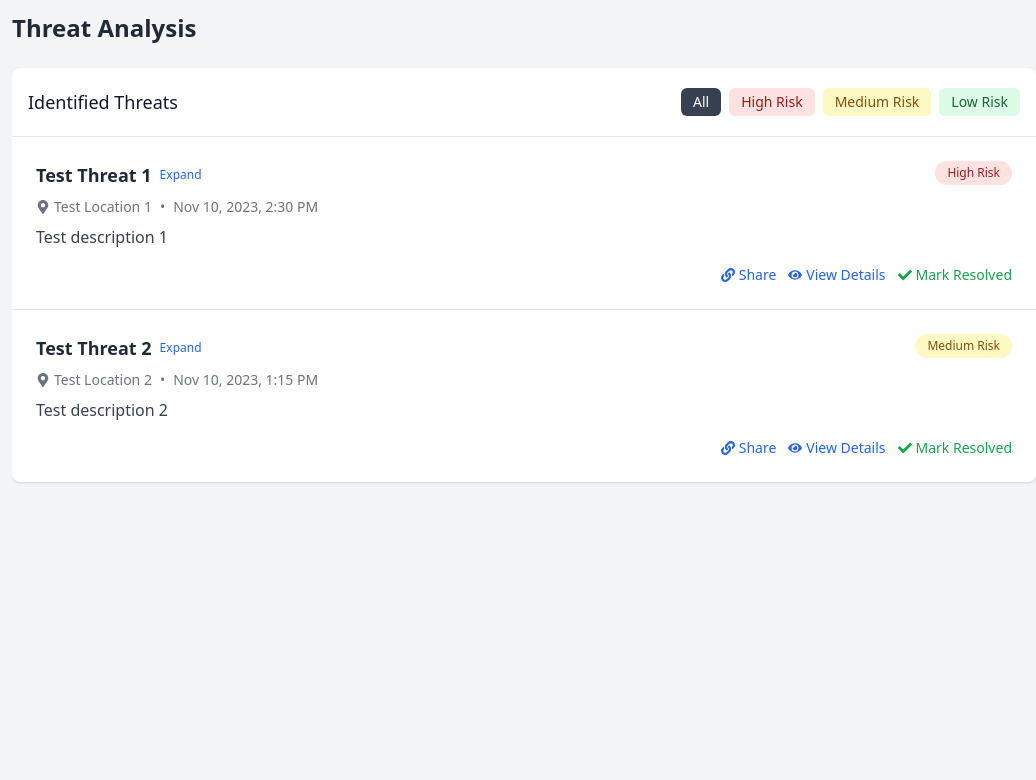
Test case: ThreatAnalysis Component › expands threat details when expand button is clicked
Expected: the heading "Test Threat 1" is shown, [36,161,152,189]
Expected: the text "Related Social Media Content" is not shown
# Click expand button
Click the button "Expand" next to "Test Threat 1".
click(181, 175)  # box [160,167,202,183]
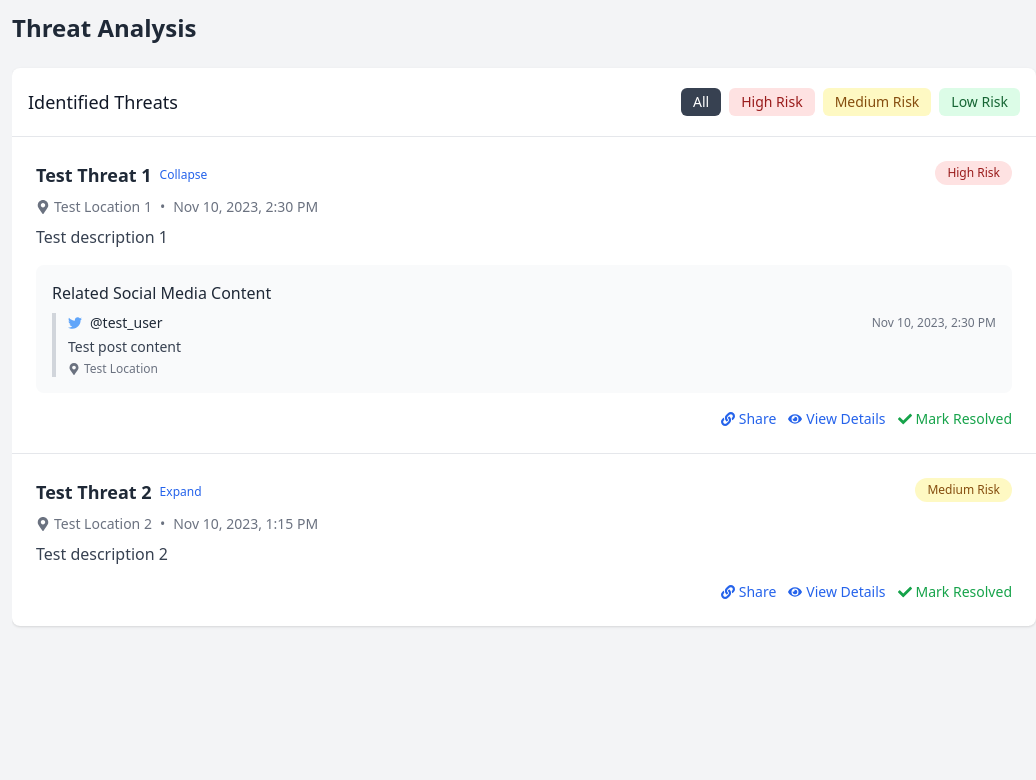
Expected: the heading "Related Social Media Content" is shown, [52,282,271,304]
Expected: the text "@test_user" is shown, [90,313,163,333]
Expected: the text "Test post content" is shown, [68,337,181,356]
